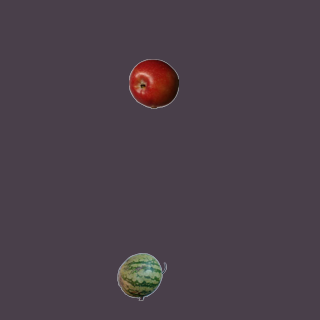Apple Braeburn: (128, 58, 178, 108)
Watermelon: (116, 251, 166, 301)
